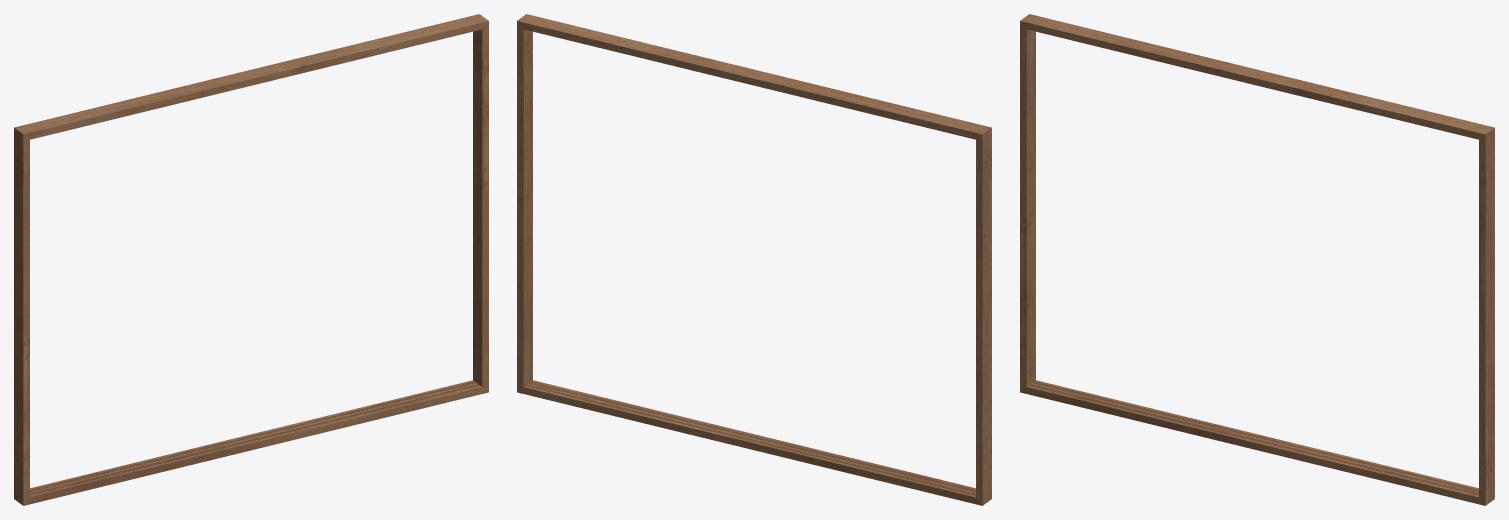
The model's file is SM_Baeryeom_Door_E2.fbx.
3 renders of one model, left to right at view 1: azimuth 30°, elevation 25°; view 2: azimuth 150°, elevation 25°; view 3: azimuth 330°, elevation 25°, orthographic.
Visible parts, largest first — view 1: SM_Baeryeom_Door_E2; view 2: SM_Baeryeom_Door_E2; view 3: SM_Baeryeom_Door_E2.
Part boxes in pixels (bbox=[...]): SM_Baeryeom_Door_E2: bbox=[14, 14, 488, 505]; SM_Baeryeom_Door_E2: bbox=[517, 14, 991, 505]; SM_Baeryeom_Door_E2: bbox=[1020, 14, 1494, 505].
Bounding box in the file's own units: 284 × 217 × 10.
